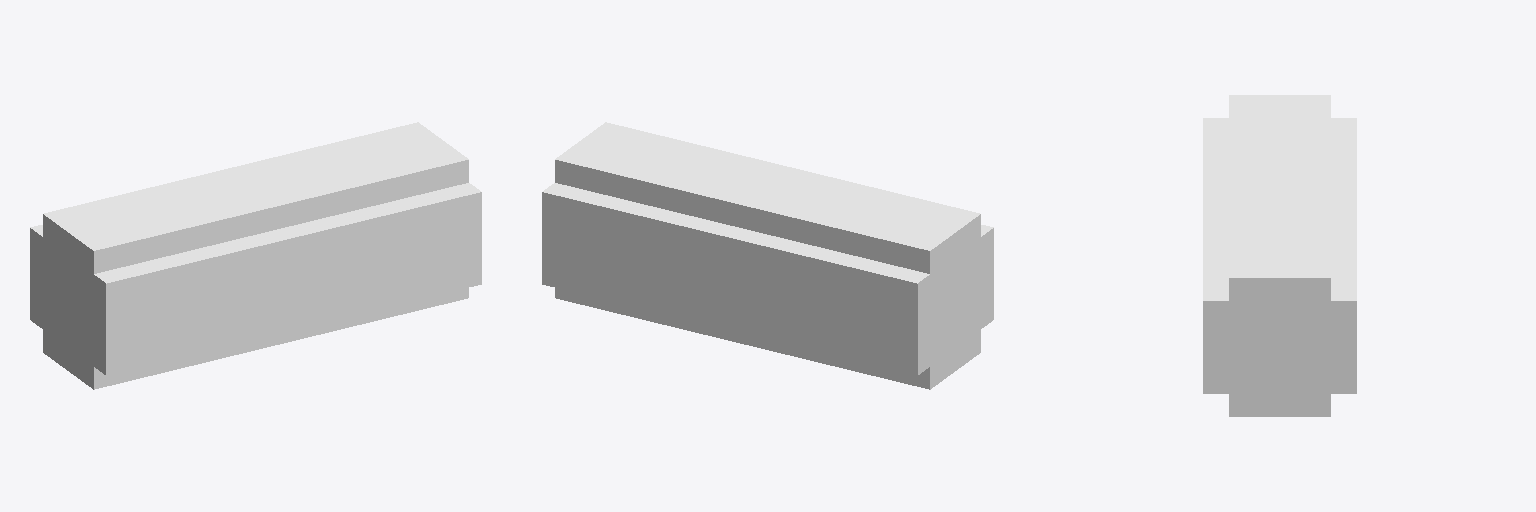
The model's file is TreeBlock.obj.
3 views of the same model, side by side, from view 1: azimuth 30°, elevation 25°; view 2: azimuth 150°, elevation 25°; view 3: azimuth 270°, elevation 25° (orthographic).
Size of the model in its own units: 17 by 6 by 6.